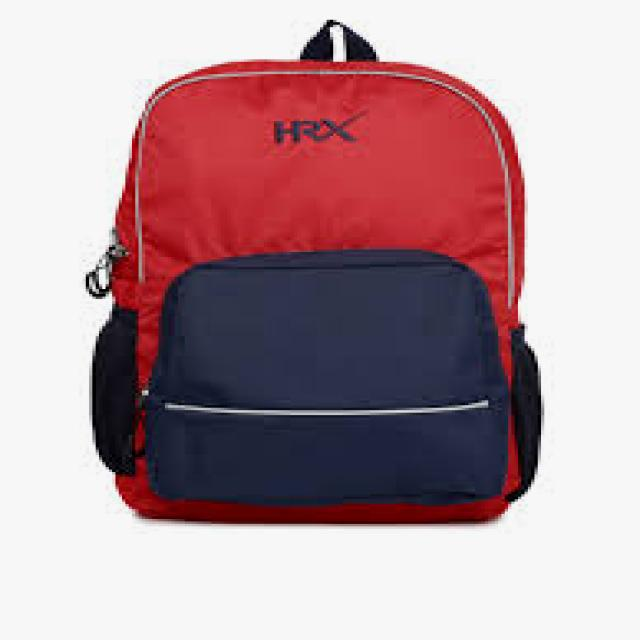backpack: (84, 19, 542, 525)
